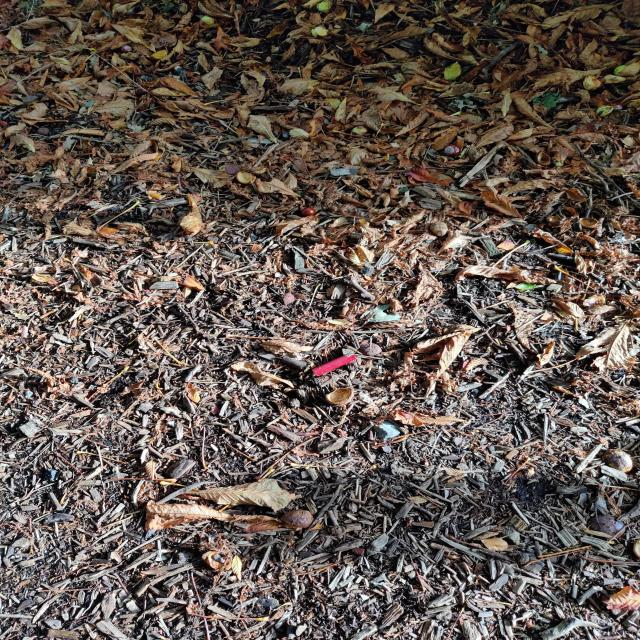litter: (295, 348, 355, 385)
